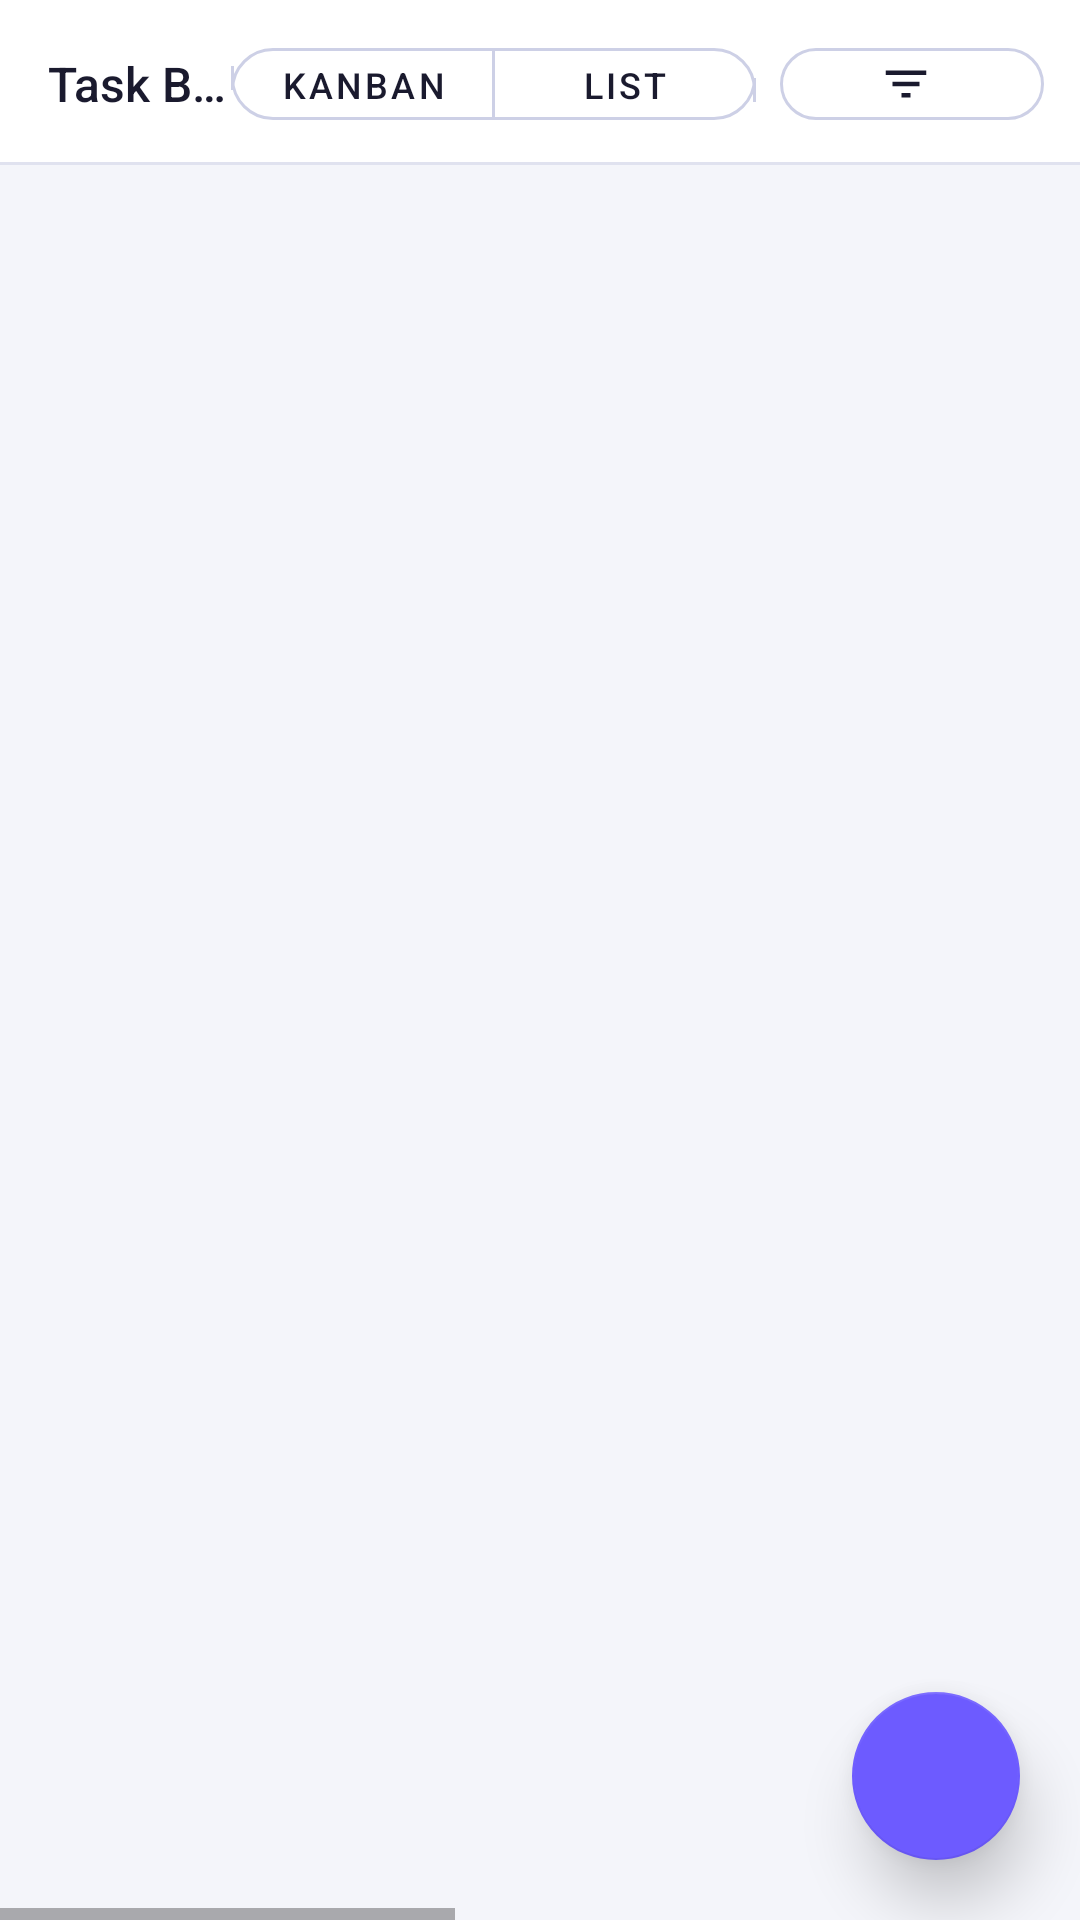

Icon click points for this 1080px×1920px phone screenshot, format (x,y):
Filter: (912,84)
